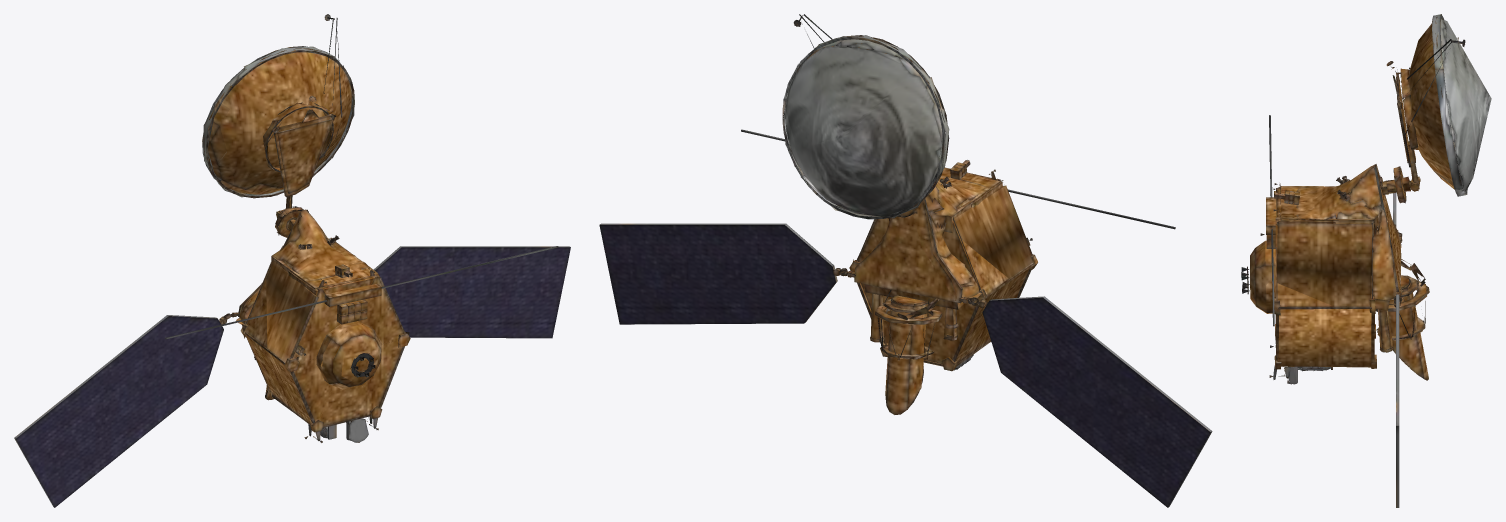
The model's file is mro_lod2.glb.
3 renders of one model, left to right at view 1: azimuth 30°, elevation 25°; view 2: azimuth 150°, elevation 25°; view 3: azimuth 270°, elevation 25°, orthographic. The views are drawn at different scales.
Visible parts, largest first — view 1: mro_lod2; view 2: mro_lod2; view 3: mro_lod2.
Boxes of the visible parts, x1,y1,x2,y2 form: mro_lod2: (14,14,570,507); mro_lod2: (599,14,1212,507); mro_lod2: (1241,14,1491,507).
Size of the model in its own units: 11.28 by 7.65 by 4.14.
2 materials, 2 textured.
